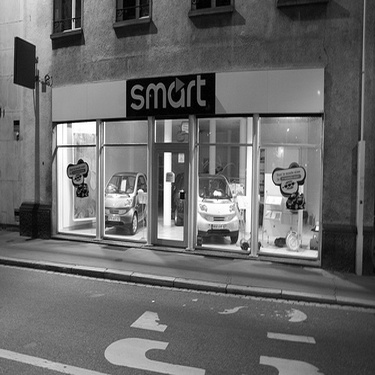car: (182, 139, 241, 251), (95, 155, 159, 248)
